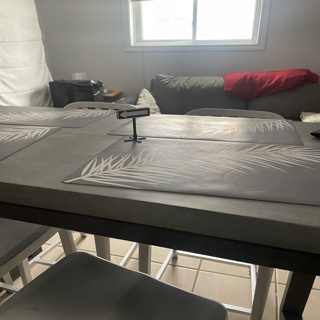sign_oneway_left: (118, 107, 148, 120)
